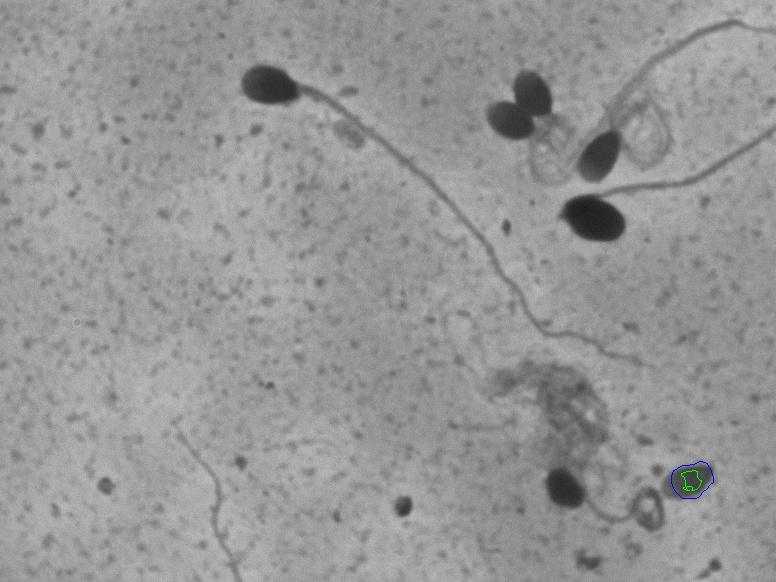Normal: (216, 28, 701, 397)
